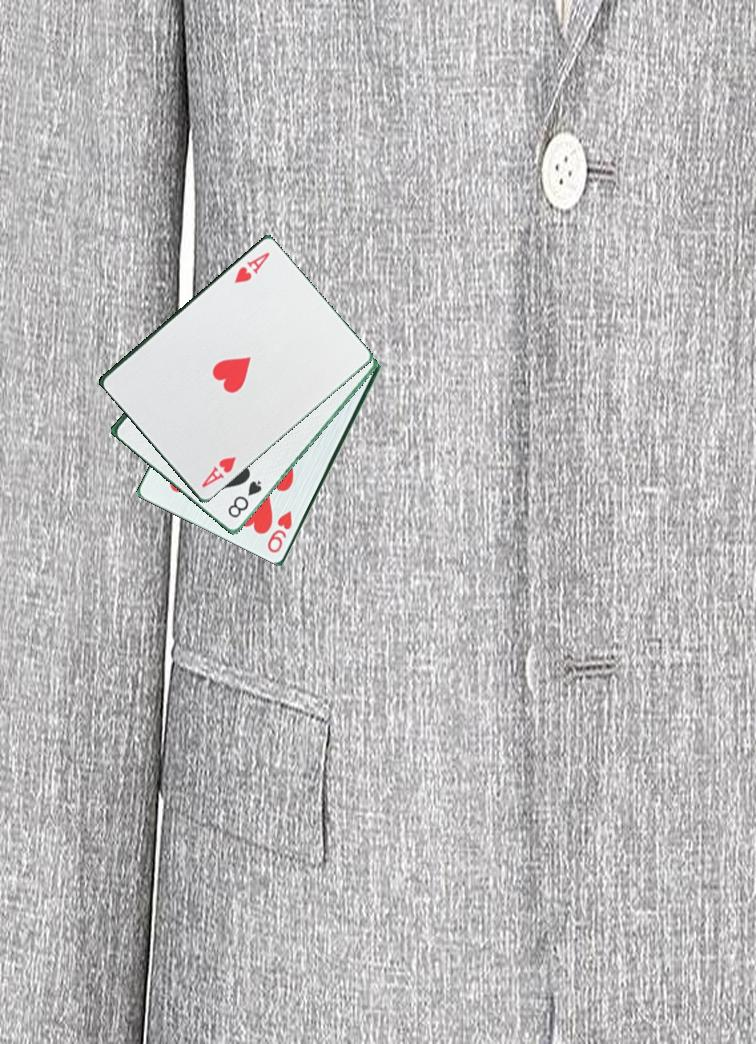8s: (218, 477, 265, 521)
9h: (264, 508, 295, 556)
ah: (198, 453, 241, 491), (231, 249, 273, 287)
